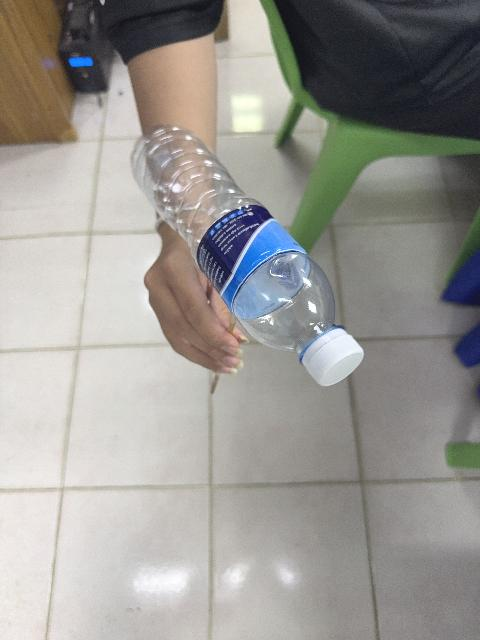bottle: (132, 127, 363, 385)
